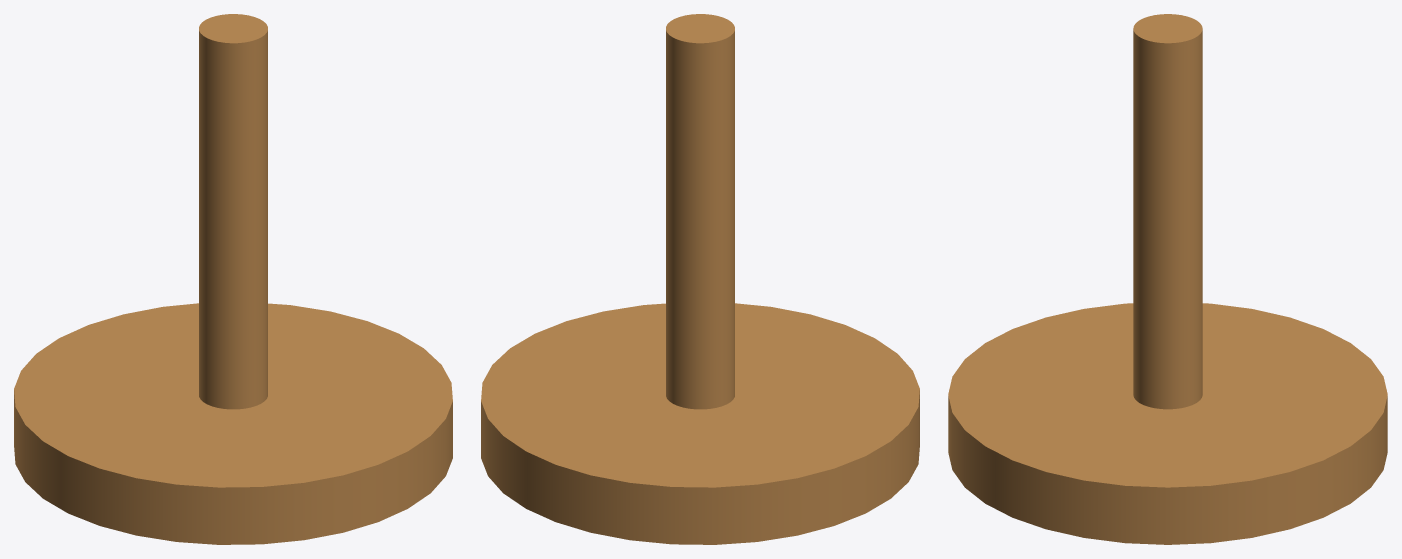
Rendered from lampu-donw.fbx.
3 views of the same model, side by side, from view 1: azimuth 30°, elevation 25°; view 2: azimuth 150°, elevation 25°; view 3: azimuth 270°, elevation 25° (orthographic).
Parts seen in each view (by area): view 1: Cylinder.006; view 2: Cylinder.006; view 3: Cylinder.006.
Boxes of the visible parts, left/top/right/bottom form: Cylinder.006: left=14, top=14, right=452, bottom=544; Cylinder.006: left=481, top=14, right=919, bottom=544; Cylinder.006: left=948, top=14, right=1387, bottom=544.
Size of the model in its own units: 67.94 by 72.2 by 67.94.
